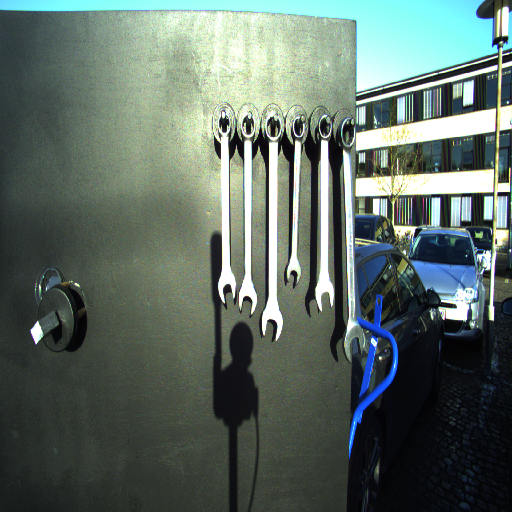bottom: (342, 323, 366, 365), (258, 307, 284, 341), (313, 280, 334, 312), (216, 274, 238, 304), (237, 286, 258, 316), (283, 259, 302, 287)
top: (335, 114, 357, 152), (263, 113, 283, 145), (317, 112, 333, 144), (289, 114, 306, 144), (239, 113, 256, 142), (216, 112, 233, 138)
